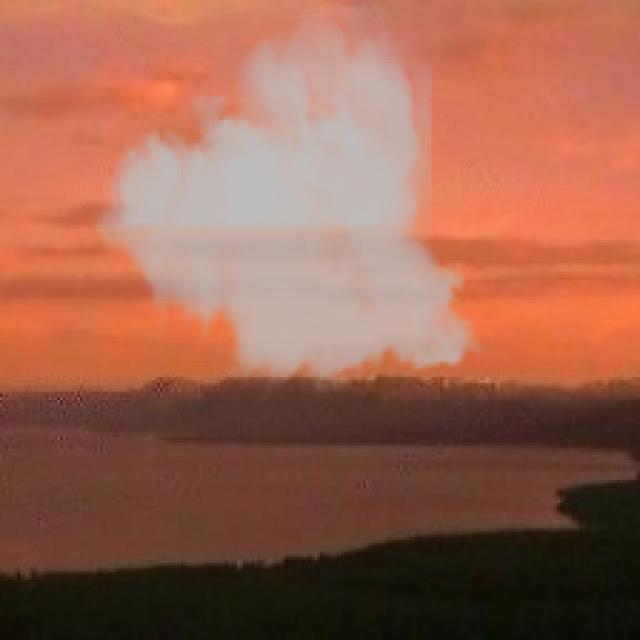Smoke: (82, 6, 494, 397)
